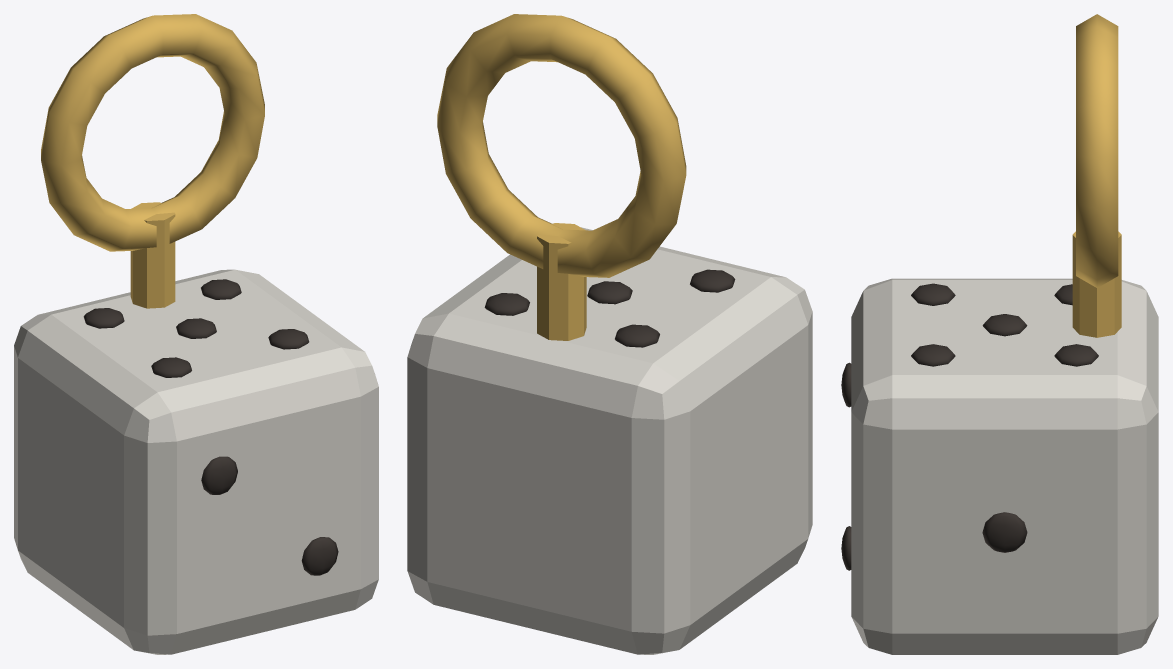
Rendered from dice_keychain.glb.
3 views of the same model, side by side, from view 1: azimuth 30°, elevation 25°; view 2: azimuth 150°, elevation 25°; view 3: azimuth 270°, elevation 25° (orthographic). The views are drawn at different scales.
Parts seen in each view (by area): view 1: dice_keychain_white, dice_keychain_gold, dice_keychain_dark; view 2: dice_keychain_white, dice_keychain_gold, dice_keychain_dark; view 3: dice_keychain_white, dice_keychain_gold, dice_keychain_dark.
Boxes of the visible parts, x1,y1,x2,y2 form: dice_keychain_white: (14,269,378,654); dice_keychain_gold: (41,14,264,308); dice_keychain_dark: (83,279,338,575); dice_keychain_white: (407,227,812,654); dice_keychain_gold: (437,14,686,340); dice_keychain_dark: (484,269,735,347); dice_keychain_white: (851,278,1158,654); dice_keychain_gold: (1072,14,1121,337); dice_keychain_dark: (841,283,1098,570).
Bounding box in the file's own units: 0.1549 × 0.312 × 0.1548.
